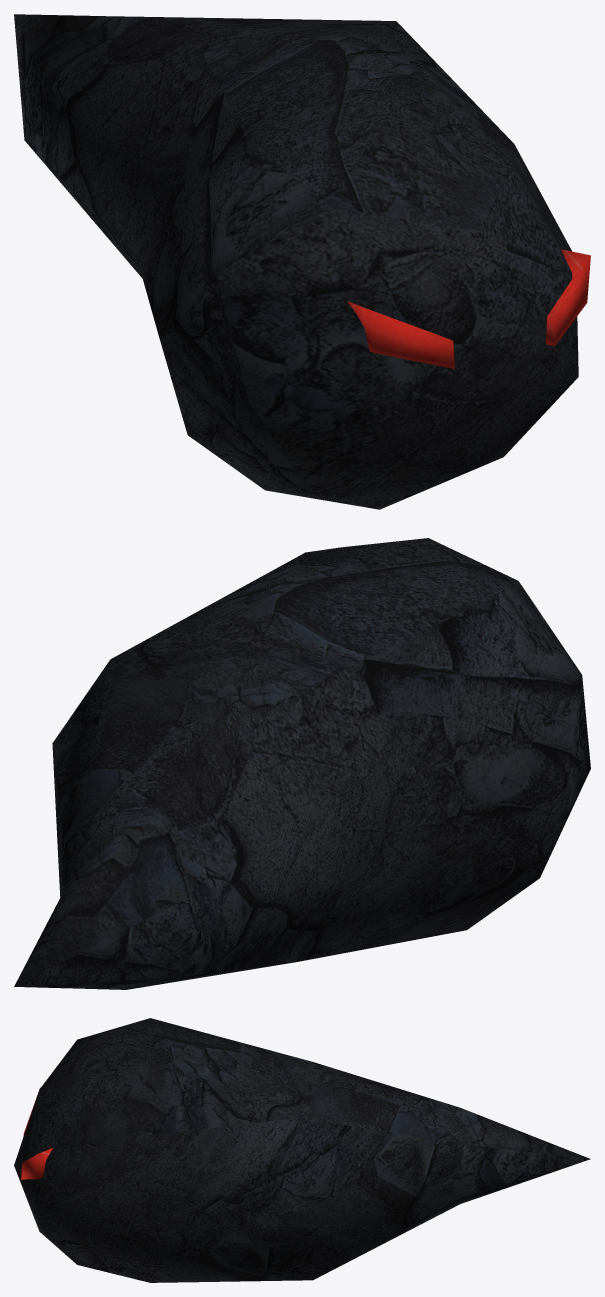
File: eel2.obj
3 renders of one model, top to bottom at view 1: azimuth 30°, elevation 25°; view 2: azimuth 150°, elevation 25°; view 3: azimuth 270°, elevation 25°, orthographic. The views are drawn at different scales.
Parts seen in each view (by area): view 1: Icosphere; view 2: Icosphere; view 3: Icosphere.
Part boxes in pixels (x1=…): Icosphere: x1=14, y1=14, x2=590, y2=509; Icosphere: x1=14, y1=538, x2=590, y2=989; Icosphere: x1=14, y1=1018, x2=590, y2=1282.
Size of the model in its own units: 2.2 by 1.9 by 4.33.
Materials: 2 (2 with a texture image).
